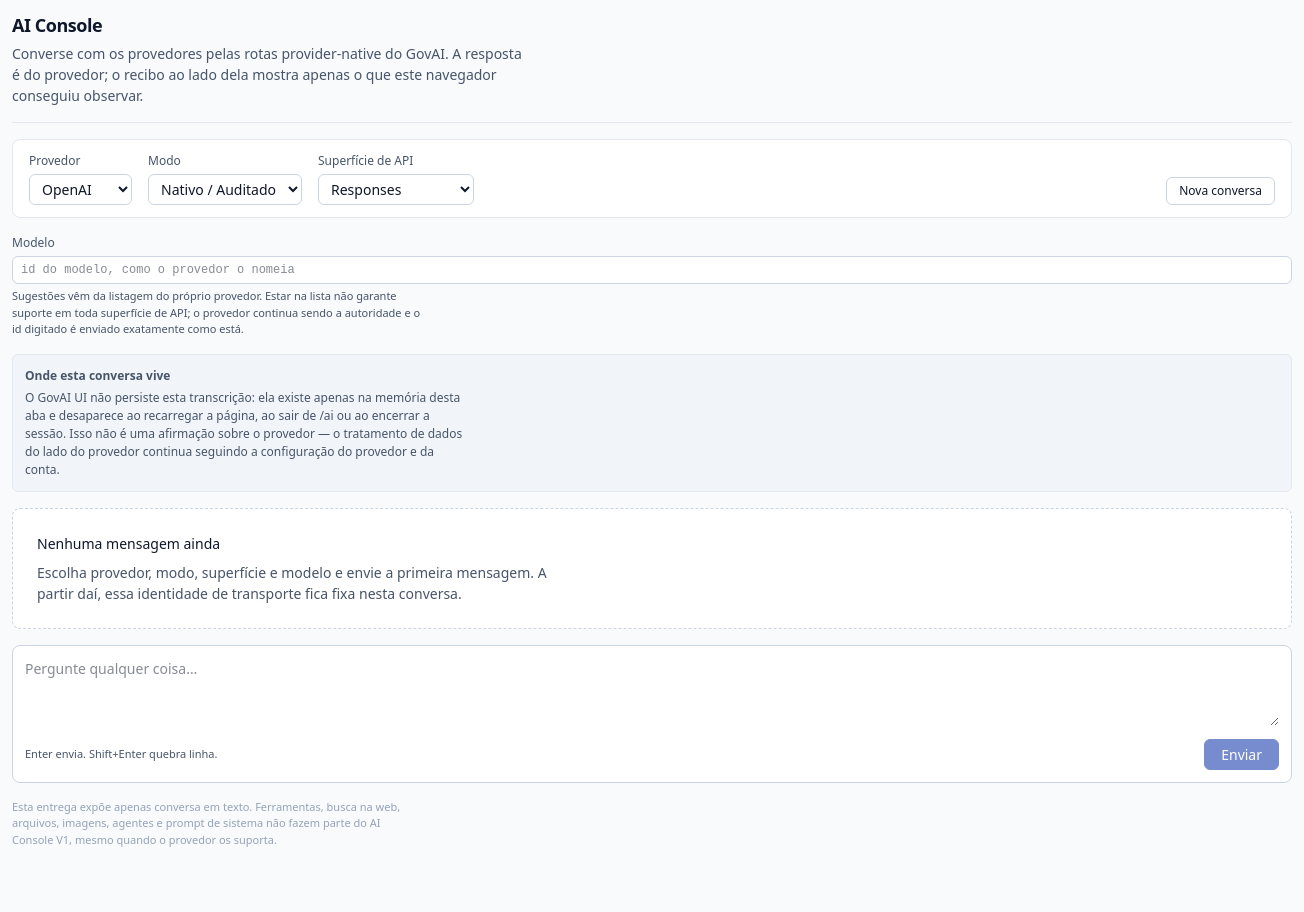
Scenario: ★ the six provider × mode combinations › OpenAI Responses · Native streams an answer through the registered GovAI route
The width and height of the screenshot is (1304, 912).
Select "OpenAI" in the dropdown with test id "provider-select" at (80, 190), box [29, 174, 132, 205]
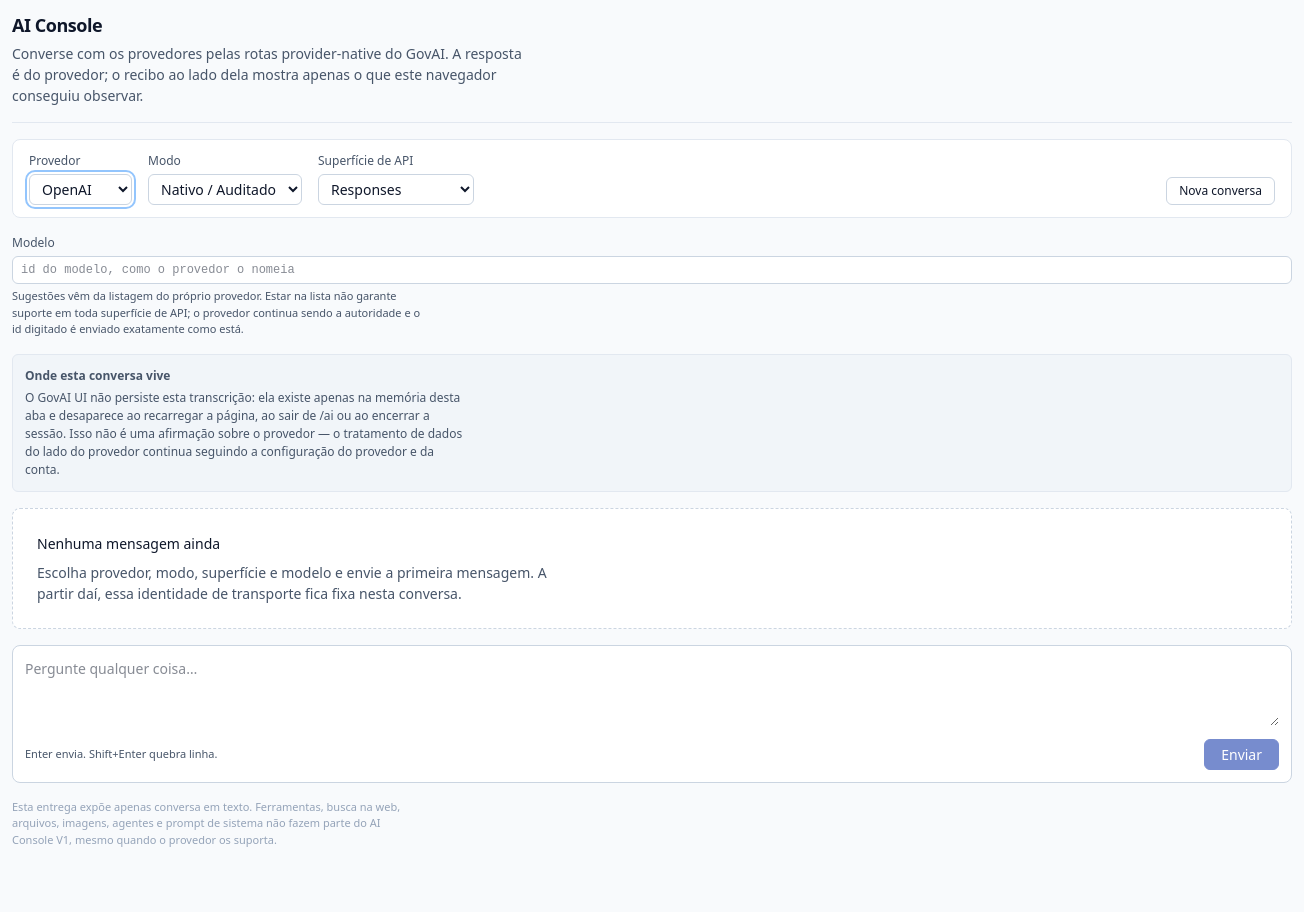
Select "Responses" in the dropdown with test id "surface-select" at (396, 190), box [318, 174, 474, 205]
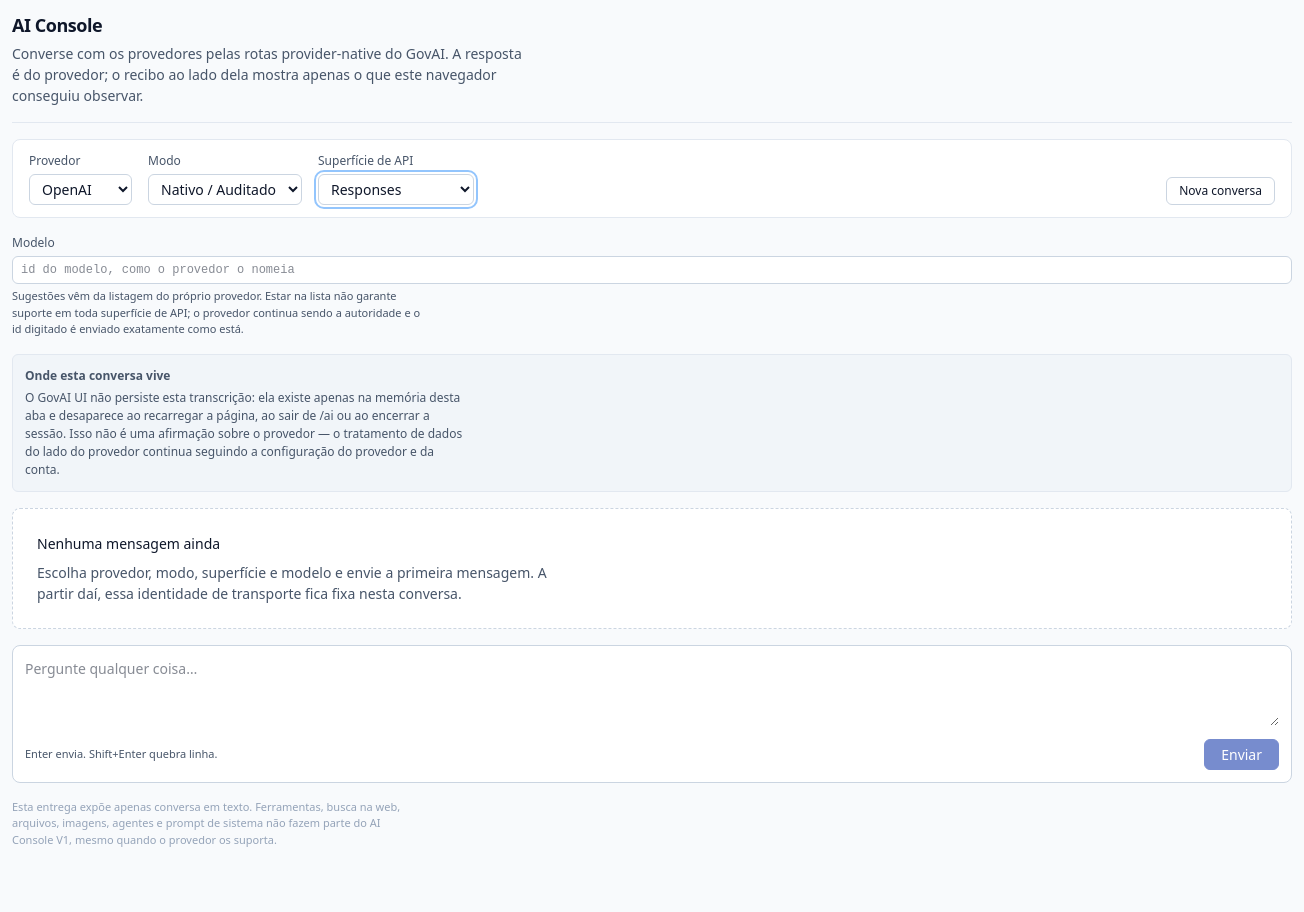
Select "Nativo / Auditado" in the dropdown with test id "mode-select" at (225, 190), box [148, 174, 302, 205]
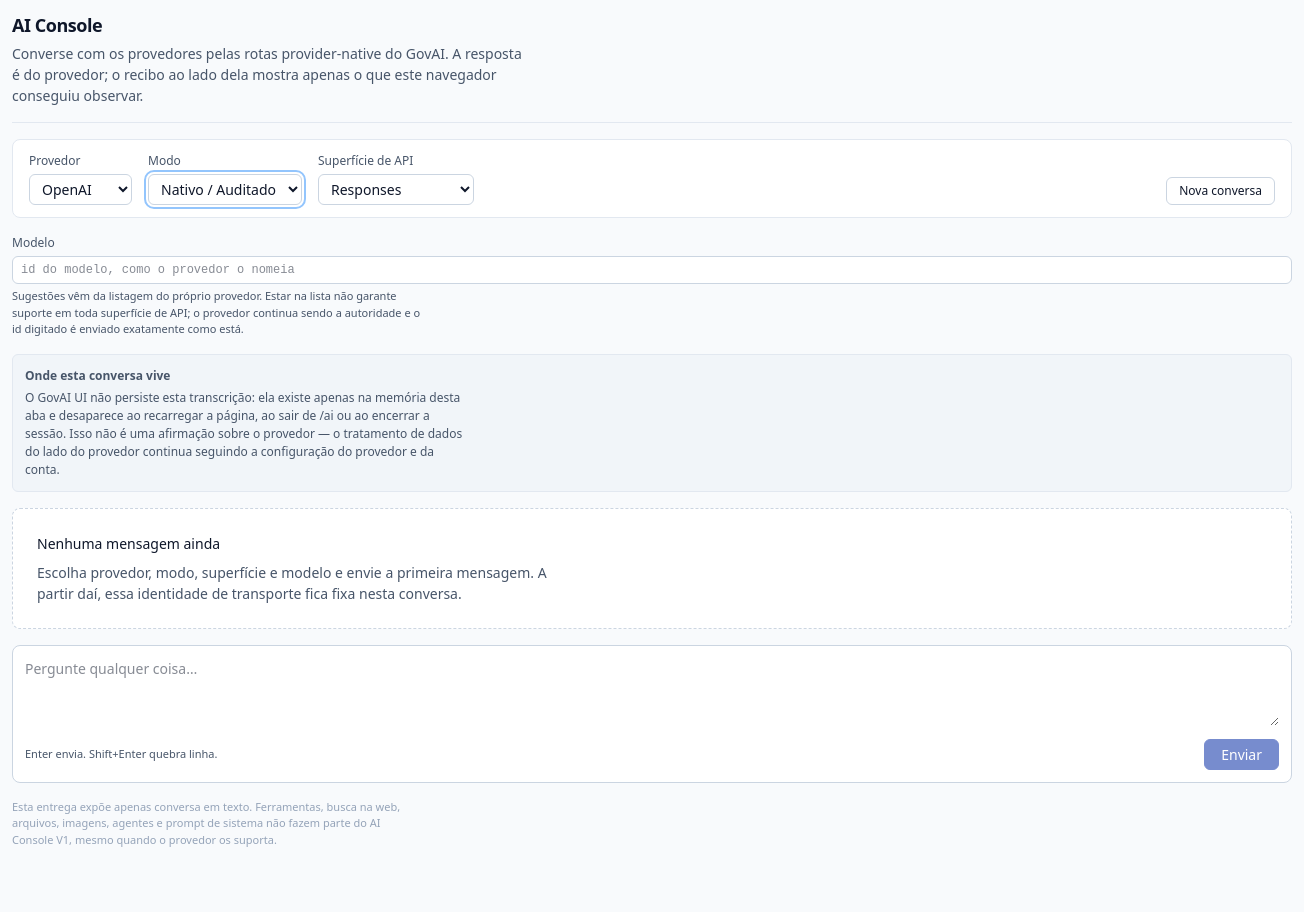
Type "a-model" into the field with test id "model-input".
click(652, 270); type("a-model")  # box [12, 256, 1292, 284]
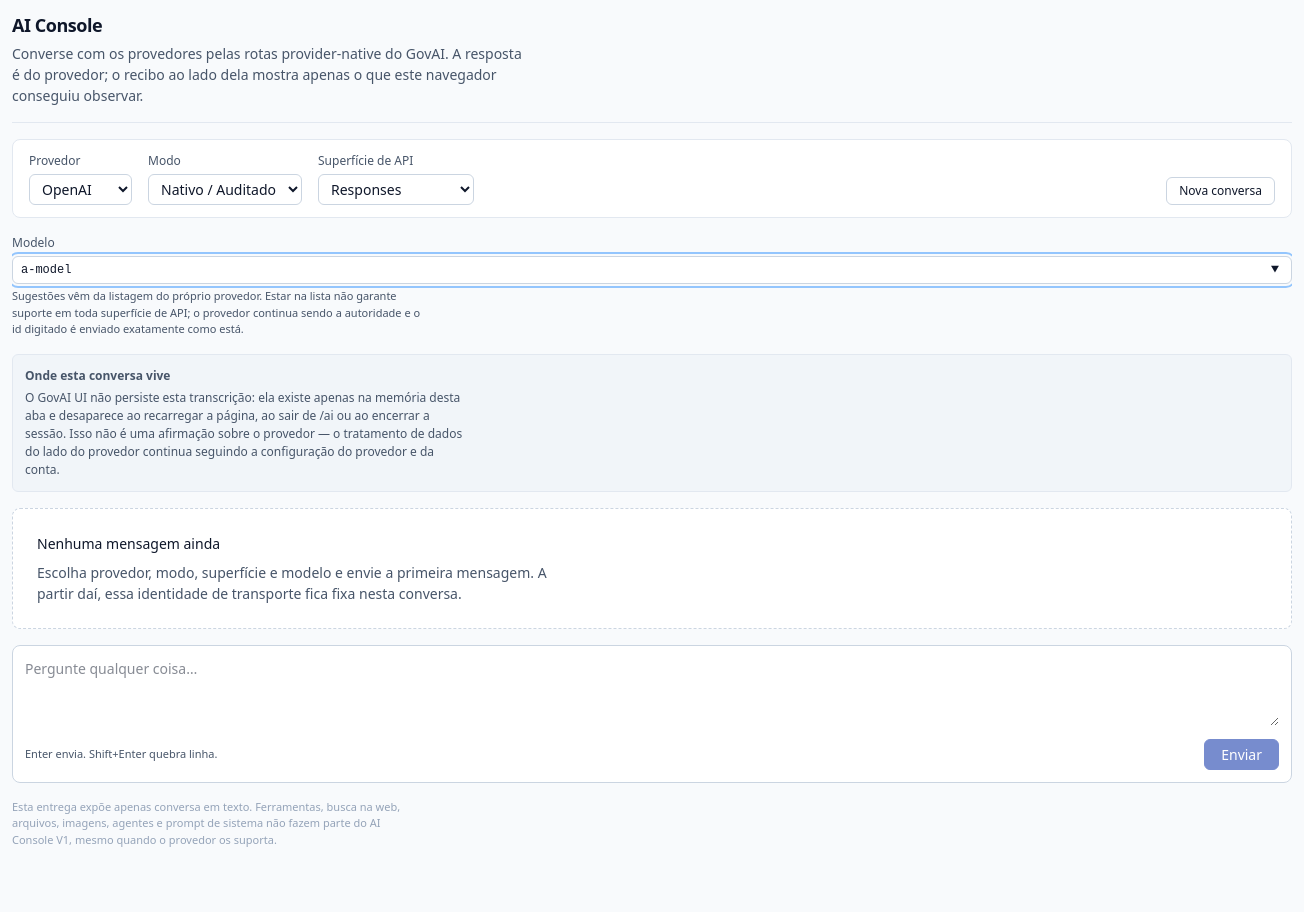
Type "a question" into the text box with test id "composer-input".
click(652, 692); type("a question")  # box [25, 658, 1279, 726]
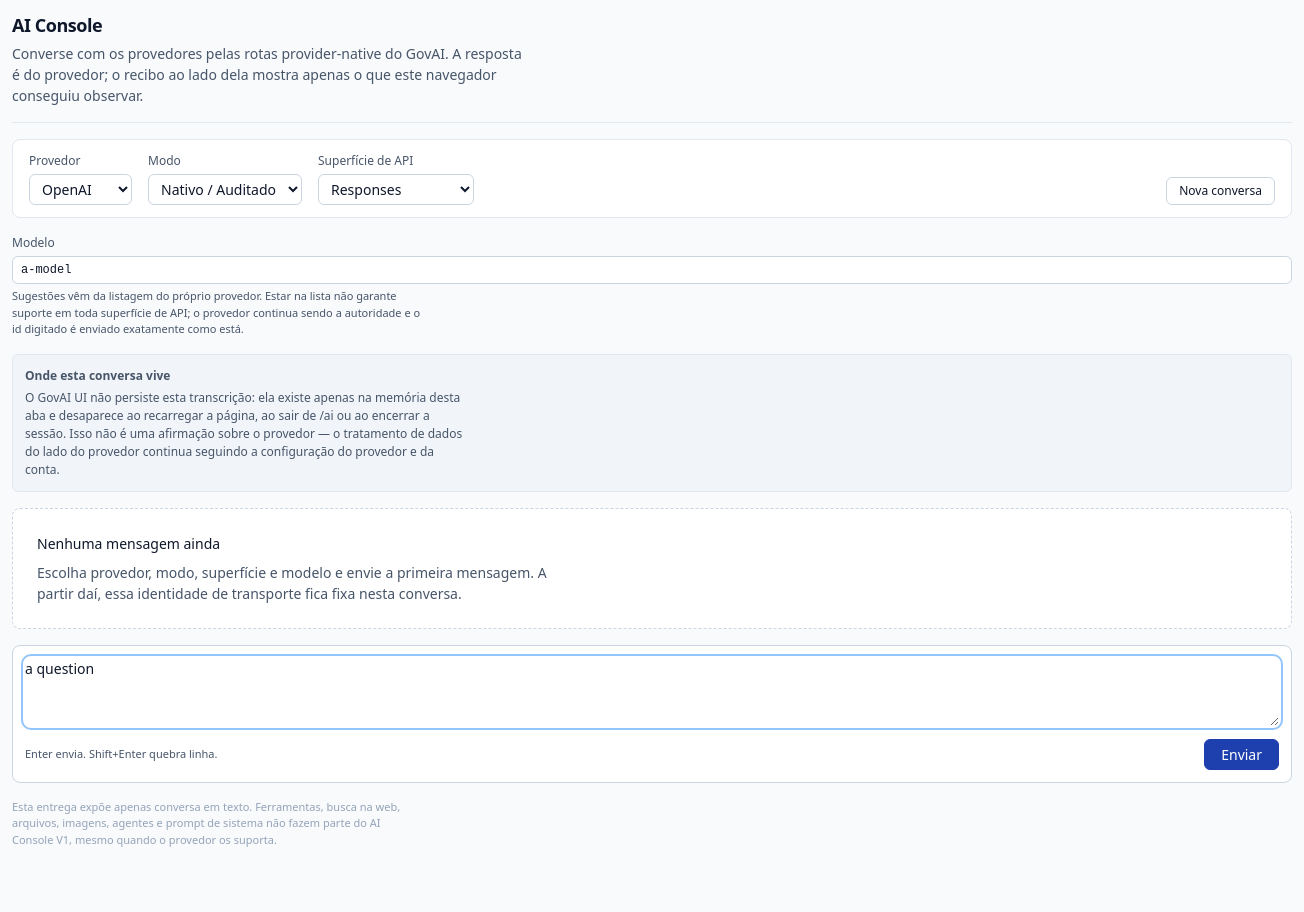
Click the button with test id "composer-send".
click(1242, 754)  # box [1204, 739, 1279, 770]
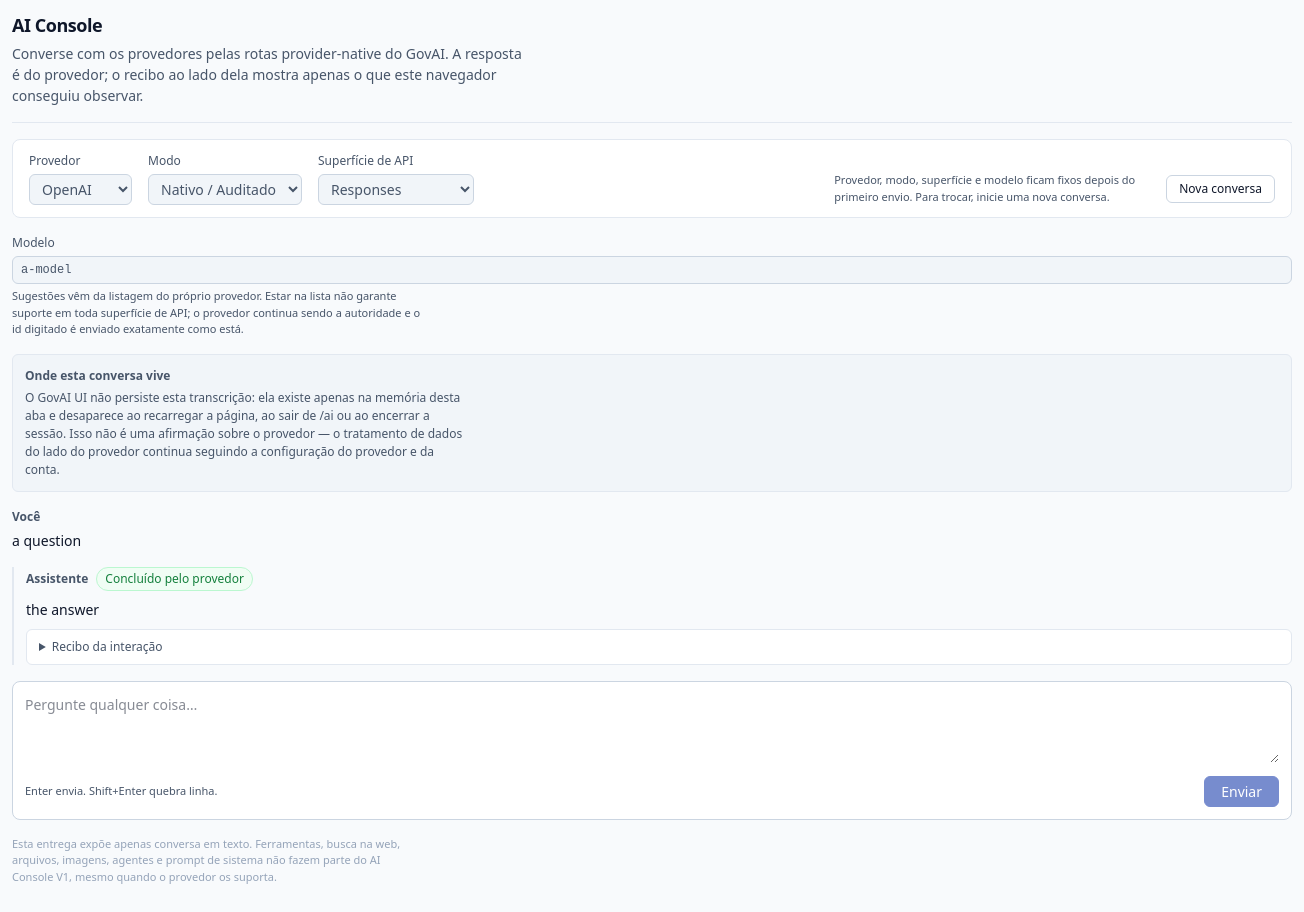
Now the text "the answer" is shown, box [26, 600, 99, 618]
Now the text with test id "attempt-state-badge" reads "Concluído pelo provedor", box [105, 570, 244, 586]
